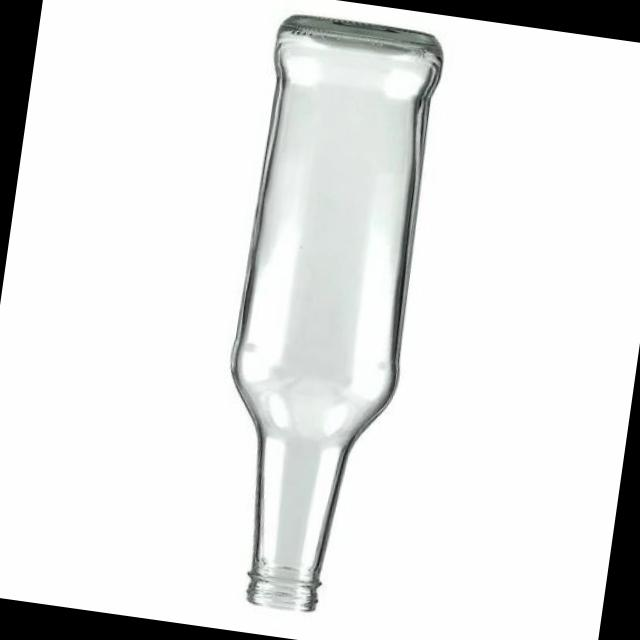glass: (206, 0, 471, 625)
